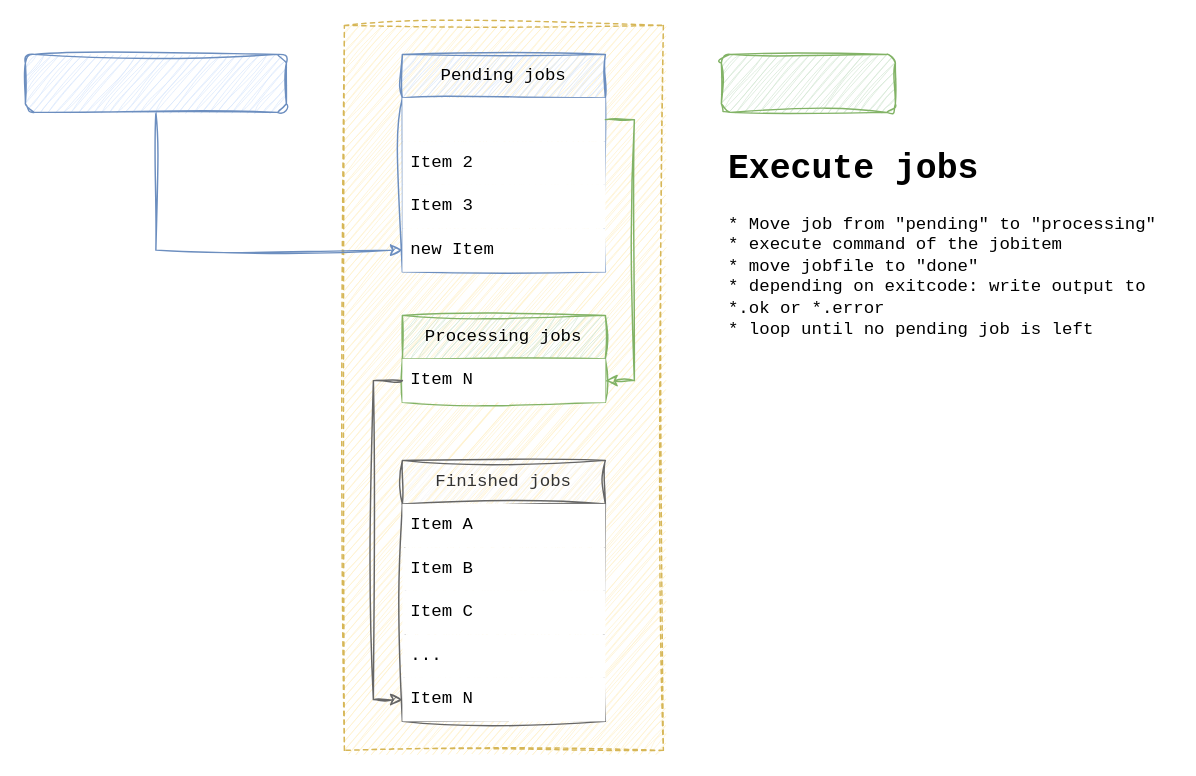
Some shapes in this 1196 by 776 pixel diagram are drawn without their labels. Each missing label, with the centre of its shape:
"bjq --add <cmd> <dir>" belongs at (x=155, y=82).
"bjq --run" belongs at (x=807, y=82).
"Item 1" belongs at (x=503, y=119).
